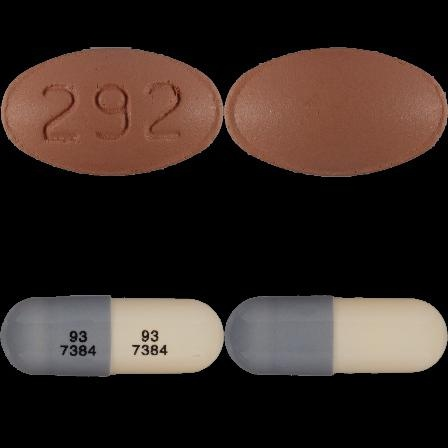50090-1400: (0, 0, 224, 224)
